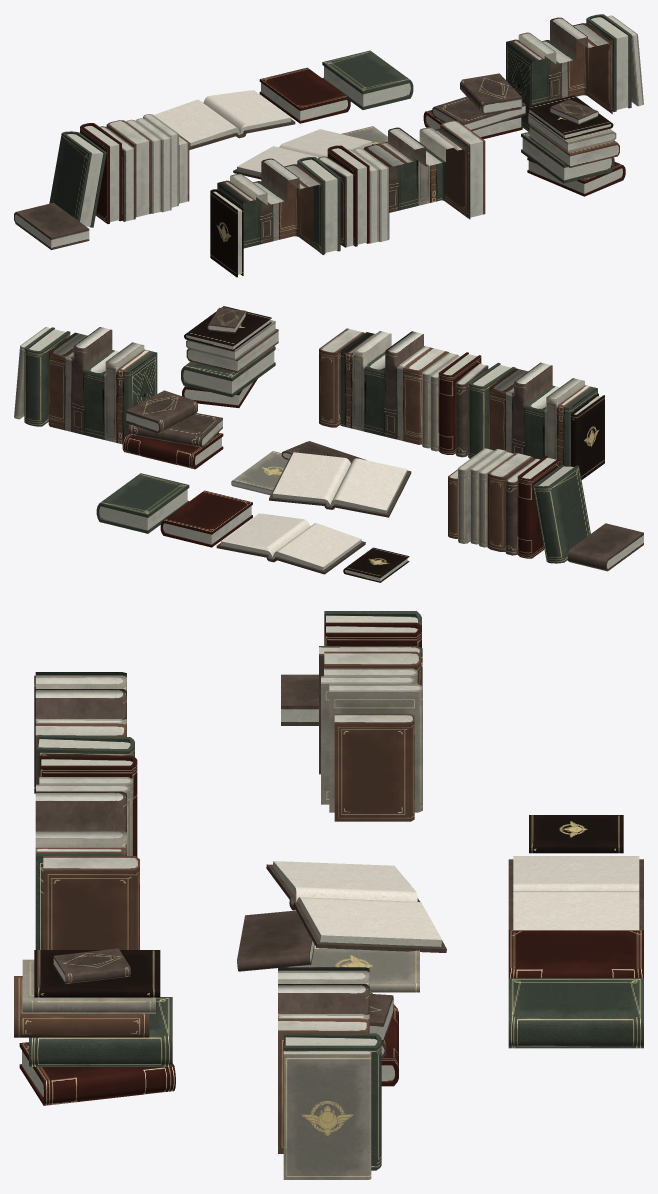
Rendered from sscenee-transformed.glb.
3 views of the same model, one above another, from view 1: azimuth 30°, elevation 25°; view 2: azimuth 150°, elevation 25°; view 3: azimuth 270°, elevation 25° (orthographic). The views are drawn at different scales.
Parts seen in each view (by area): view 1: prop_book_02_inst_001_prop_books_01_mt_0; view 2: prop_book_02_inst_001_prop_books_01_mt_0; view 3: prop_book_02_inst_001_prop_books_01_mt_0.
Part boxes in pixels (bbox=[...]): prop_book_02_inst_001_prop_books_01_mt_0: bbox=[14, 14, 643, 277]; prop_book_02_inst_001_prop_books_01_mt_0: bbox=[14, 306, 643, 582]; prop_book_02_inst_001_prop_books_01_mt_0: bbox=[14, 611, 643, 1179].
Bounding box in the file's own units: 3.55 × 0.4889 × 1.95.
Materials: 1 (1 with a texture image).
